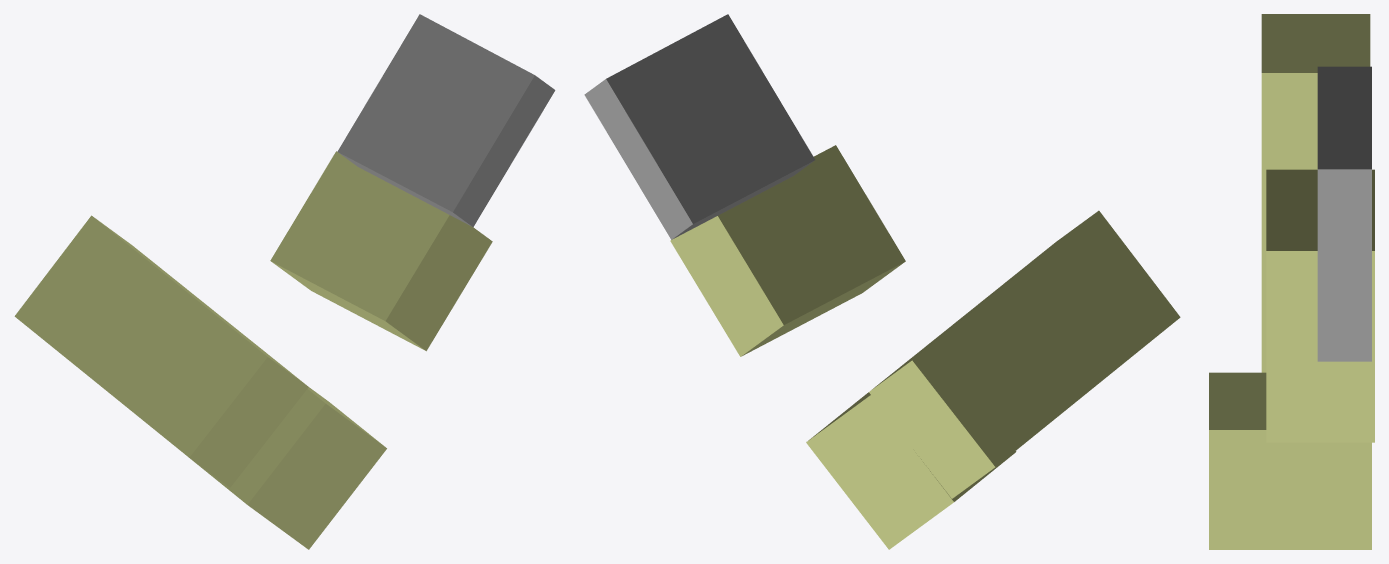
3 views of the same model, side by side, from view 1: azimuth 30°, elevation 25°; view 2: azimuth 150°, elevation 25°; view 3: azimuth 270°, elevation 25° (orthographic). The views are drawn at different scales.
Parts seen in each view (by area): view 1: 0_1_2_0_1_3_2_0_0; view 2: 0_1_2_0_1_3_2_0_0; view 3: 0_1_2_0_1_3_2_0_0.
Boxes of the visible parts, x1,y1,x2,y2 form: 0_1_2_0_1_3_2_0_0: (14,14,555,549); 0_1_2_0_1_3_2_0_0: (584,14,1180,549); 0_1_2_0_1_3_2_0_0: (1209,14,1374,549).
Bounding box in the file's own units: 44.03 × 36.24 × 9.16.
